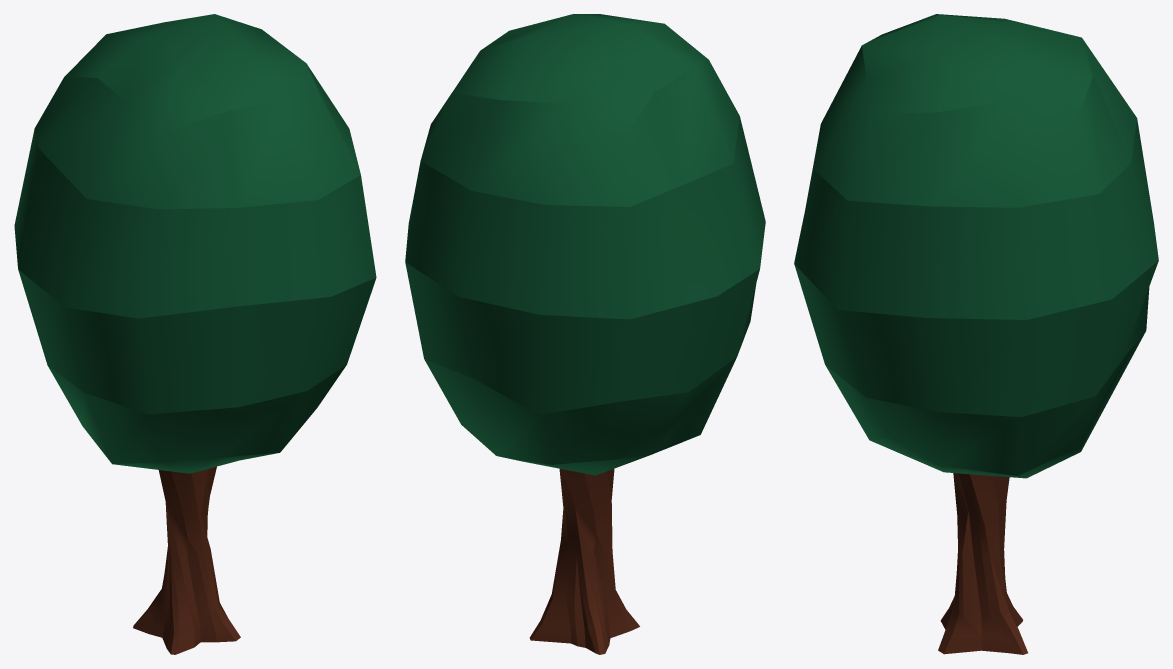
File: Tree_2_Medium.fbx
The picture shows the model from 3 angles, left to right: view 1: azimuth 30°, elevation 25°; view 2: azimuth 150°, elevation 25°; view 3: azimuth 270°, elevation 25°; orthographic projection. The views are drawn at different scales.
Visible parts, largest first — view 1: Tree_2_Medium; view 2: Tree_2_Medium; view 3: Tree_2_Medium.
Part boxes in pixels (x1,y1,x2,y2): Tree_2_Medium: (14, 14, 376, 654); Tree_2_Medium: (405, 14, 765, 654); Tree_2_Medium: (794, 14, 1158, 654).
Size of the model in its own units: 101 by 189 by 102.
